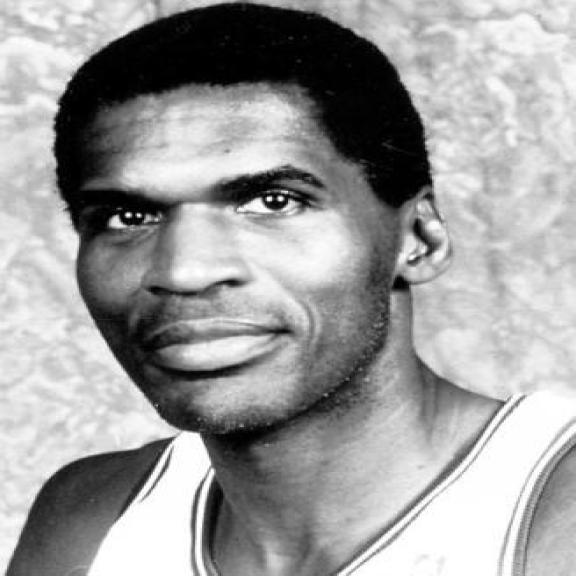face: (73, 85, 459, 445)
